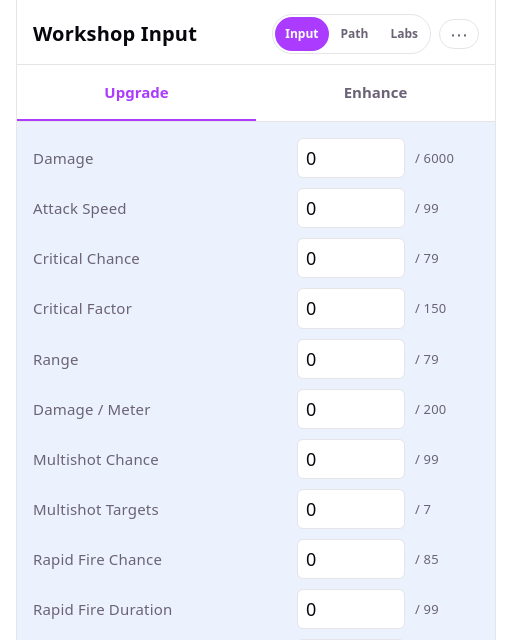
Scenario: App › switches to the Path mode, showing the cheapest not-yet-maxed upgrade first (OQ-17)
Click the tab "Path": (354, 34) [330, 17, 378, 51]
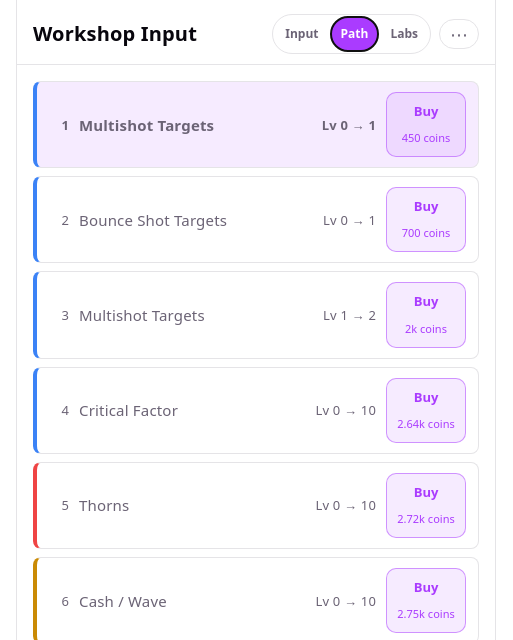
Expected: the tab "Attack" is not shown
Expected: the list item "1 Multishot Targets Lv 0 → 1 Buy 450 coins" is shown, [33, 81, 479, 168]
